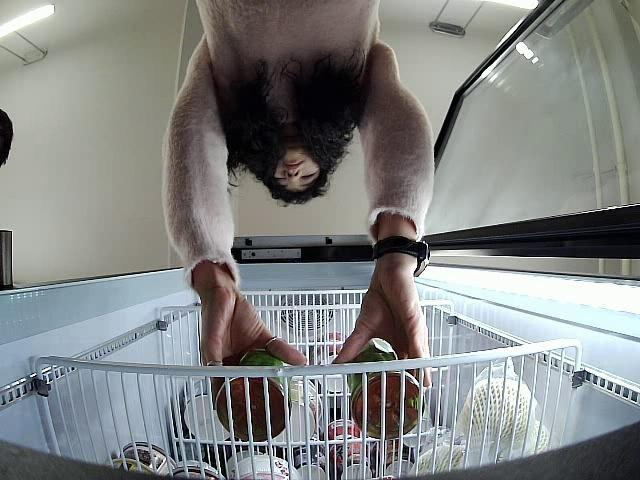19_17cha: (347, 334, 426, 439), (212, 352, 292, 438)
